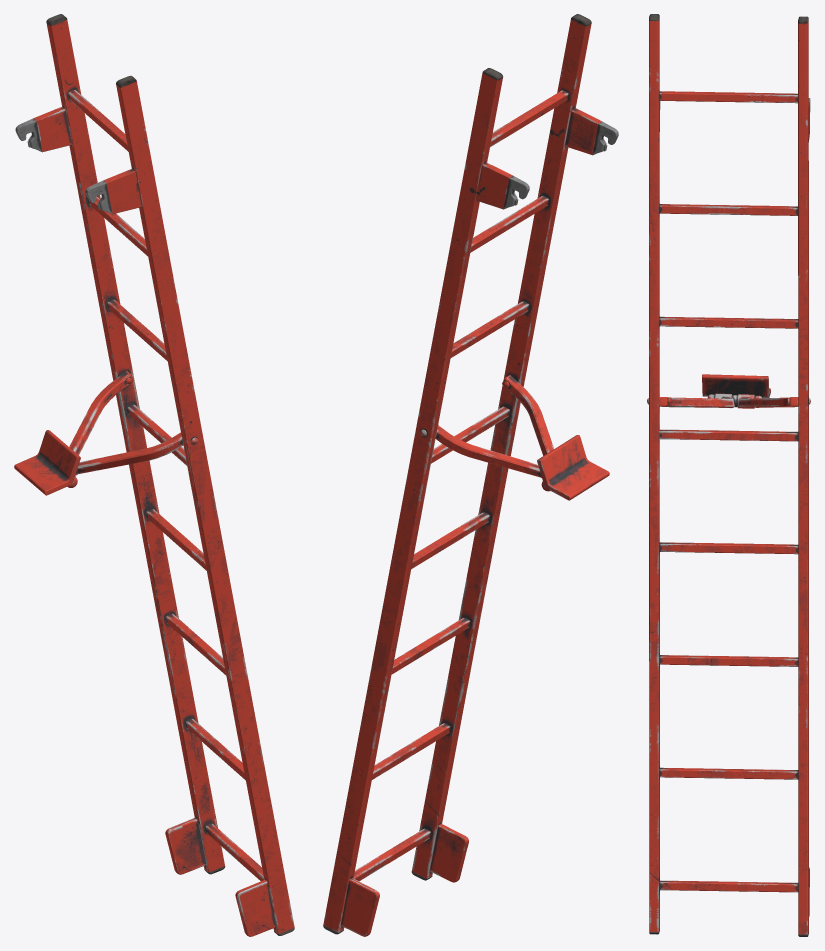
The picture shows the model from 3 angles, left to right: view 1: azimuth 30°, elevation 25°; view 2: azimuth 150°, elevation 25°; view 3: azimuth 270°, elevation 25°; orthographic projection. The views are drawn at different scales.
Visible parts, largest first — view 1: beam-main.001_Baked_0, steps.001_Baked_5, suport.002_Baked_6, suport.003_Baked_7, hook.001_Baked_3, hand.001_Baked_1; view 2: beam-main.001_Baked_0, steps.001_Baked_5, suport.002_Baked_6, suport.003_Baked_7, hand.001_Baked_1, hook.001_Baked_3; view 3: beam-main.001_Baked_0, steps.001_Baked_5, hook.001_Baked_3, hand.001_Baked_1.
Boxes of the visible parts, left/top/right/bottom form: beam-main.001_Baked_0: left=46, top=19, right=294, bottom=933; steps.001_Baked_5: left=68, top=90, right=264, bottom=880; suport.002_Baked_6: left=15, top=106, right=141, bottom=214; suport.003_Baked_7: left=165, top=817, right=275, bottom=936; hook.001_Baked_3: left=69, top=371, right=197, bottom=475; hand.001_Baked_1: left=14, top=430, right=80, bottom=495; beam-main.001_Baked_0: left=323, top=19, right=591, bottom=932; steps.001_Baked_5: left=353, top=90, right=568, bottom=881; suport.002_Baked_6: left=476, top=108, right=618, bottom=209; suport.003_Baked_7: left=341, top=824, right=468, bottom=936; hand.001_Baked_1: left=537, top=435, right=609, bottom=500; hook.001_Baked_3: left=420, top=375, right=553, bottom=477; beam-main.001_Baked_0: left=649, top=18, right=808, bottom=934; steps.001_Baked_5: left=659, top=91, right=798, bottom=892; hook.001_Baked_3: left=647, top=397, right=810, bottom=407; hand.001_Baked_1: left=702, top=374, right=770, bottom=398.
Size of the model in its own units: 0.5289 by 1.96 by 0.3438.
Materials: 1 (1 with a texture image).
